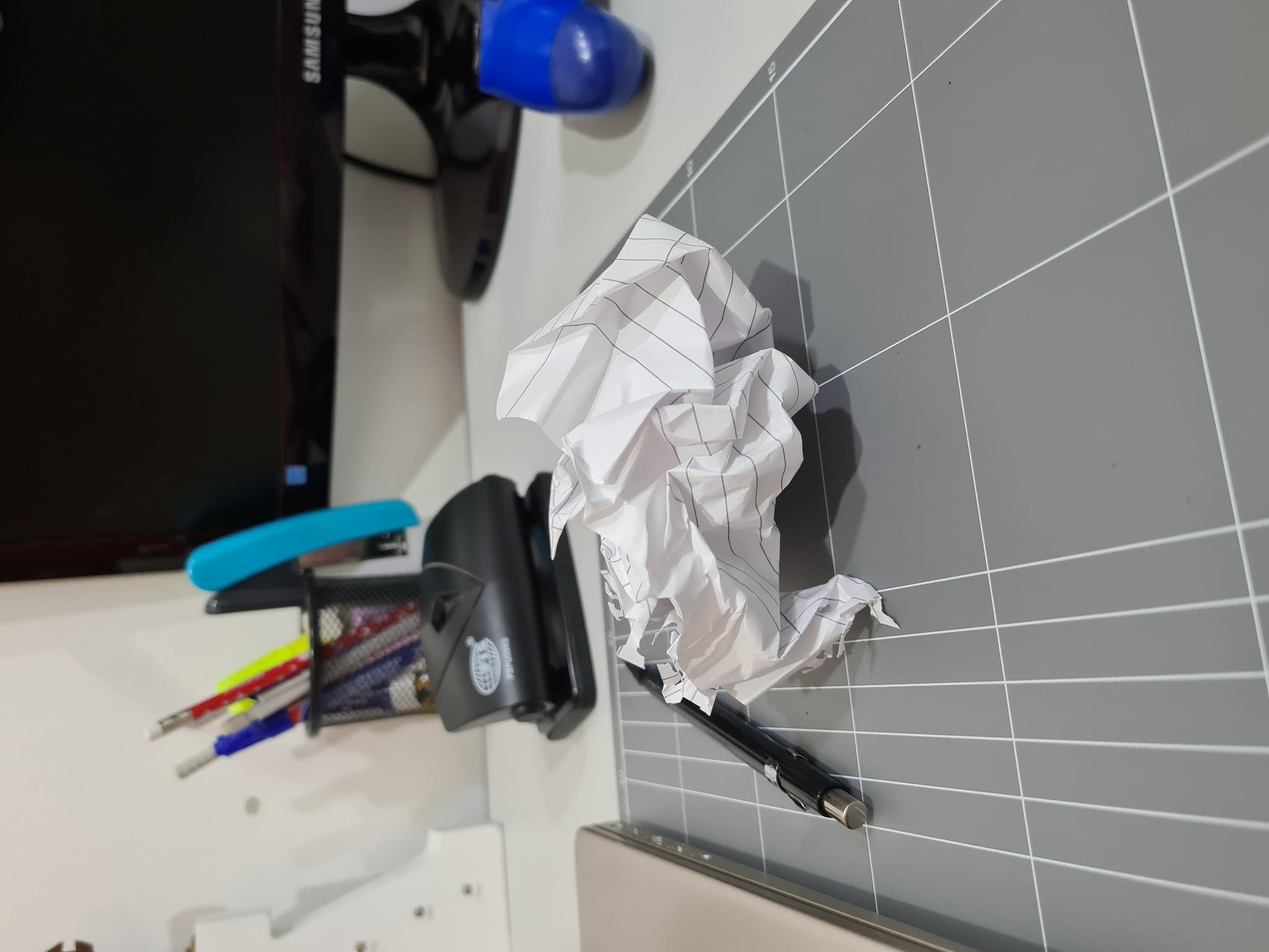Kertas: (245, 498, 736, 893)
